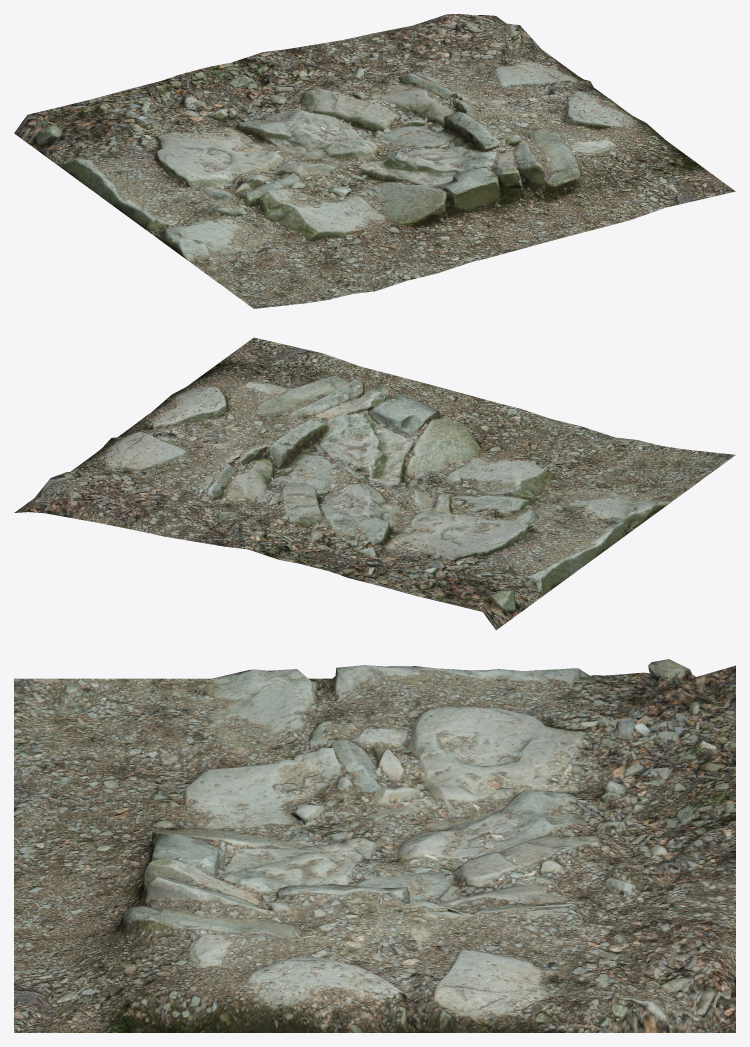
File: sm_Path_01_04.fbx
The picture shows the model from 3 angles, top to bottom: view 1: azimuth 30°, elevation 25°; view 2: azimuth 150°, elevation 25°; view 3: azimuth 270°, elevation 25°; orthographic projection. The views are drawn at different scales.
Parts seen in each view (by area): view 1: sm_Path_01_04_LOD0; view 2: sm_Path_01_04_LOD0; view 3: sm_Path_01_04_LOD0.
Part boxes in pixels (x1,y1,x2,y2): sm_Path_01_04_LOD0: [14, 14, 735, 308]; sm_Path_01_04_LOD0: [14, 337, 735, 630]; sm_Path_01_04_LOD0: [14, 659, 735, 1032].
Bounding box in the file's own units: 301 × 259 × 25.12.
